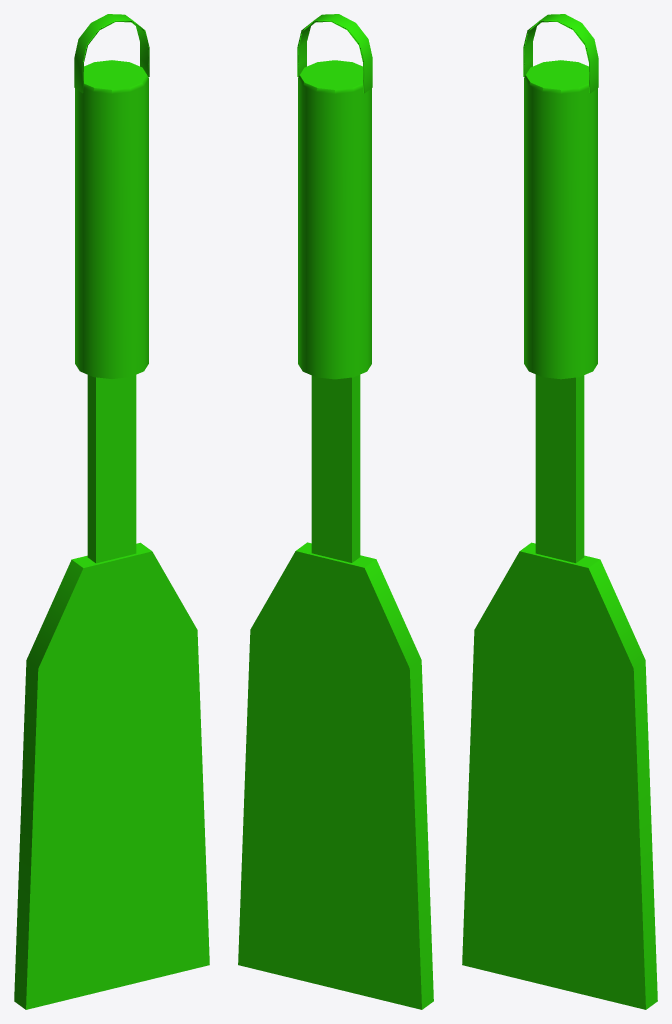
File: Spatula_01_Lod0.fbx
The picture shows the model from 3 angles, left to right: view 1: azimuth 30°, elevation 25°; view 2: azimuth 150°, elevation 25°; view 3: azimuth 330°, elevation 25°; orthographic projection.
Parts seen in each view (by area): view 1: Spatula_01_Lod0; view 2: Spatula_01_Lod0; view 3: Spatula_01_Lod0.
Part boxes in pixels (left/top/right/bottom): Spatula_01_Lod0: left=14, top=14, right=209, bottom=1009; Spatula_01_Lod0: left=238, top=14, right=433, bottom=1009; Spatula_01_Lod0: left=462, top=14, right=657, bottom=1009.
Size of the model in its own units: 8.67 by 43.53 by 3.03.
